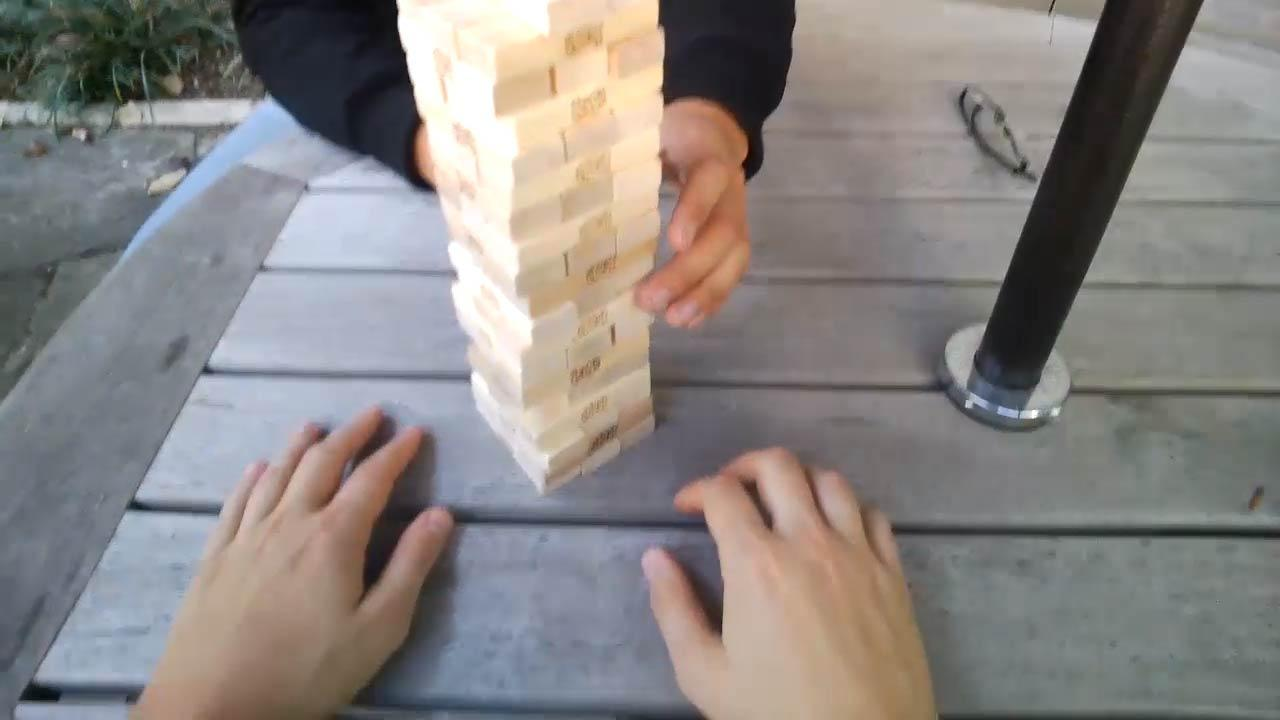hand: (171, 400, 452, 720), (641, 446, 938, 720), (661, 98, 754, 348)
